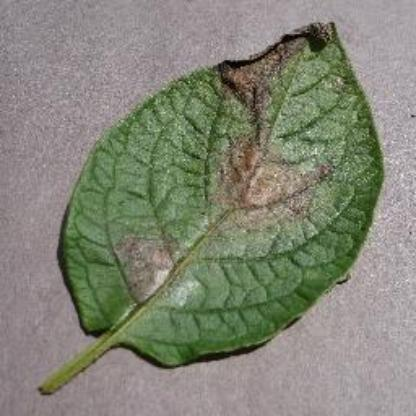Late-Blight: (36, 19, 388, 396)
